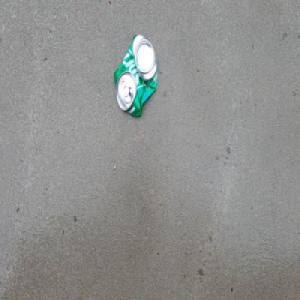SodaCan: (112, 32, 159, 120)
